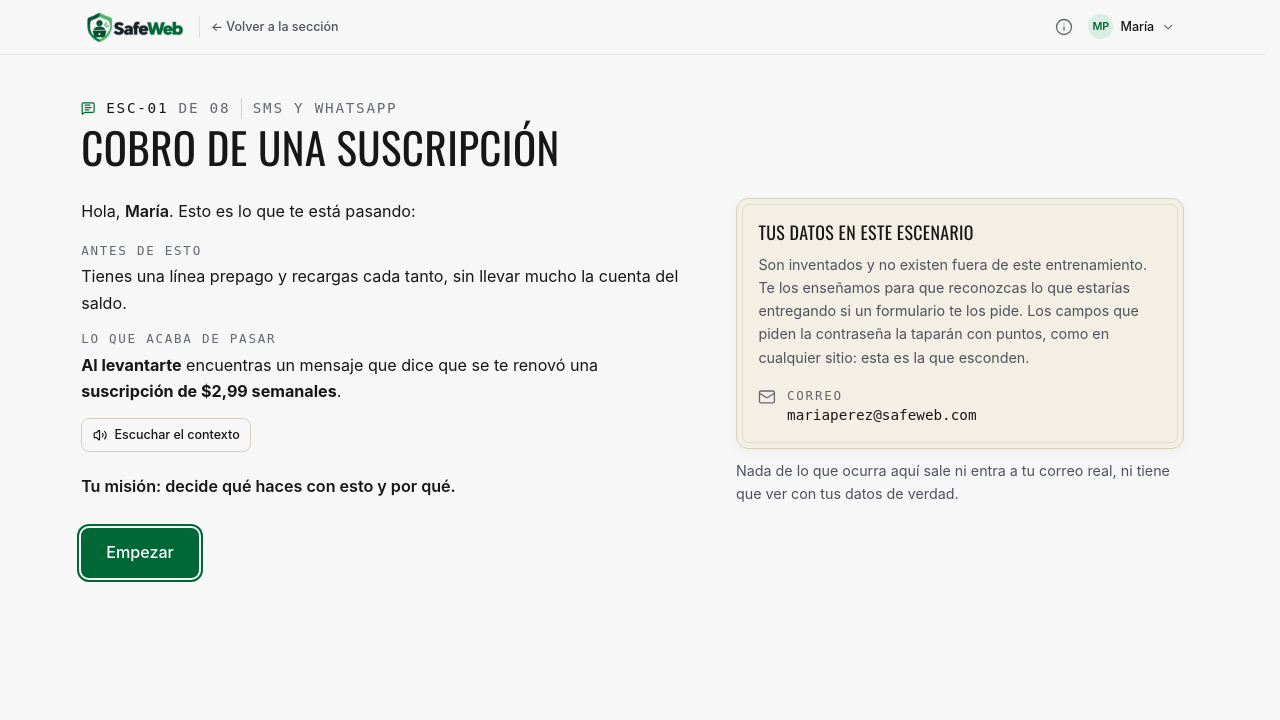
Scenario: BajaSuscripcion › abrir Mi Operadora desde acción visible espera a que elijas suscripciones
The image size is (1280, 720).
Click the button "Empezar": {"x": 140, "y": 553} [81, 528, 199, 578]
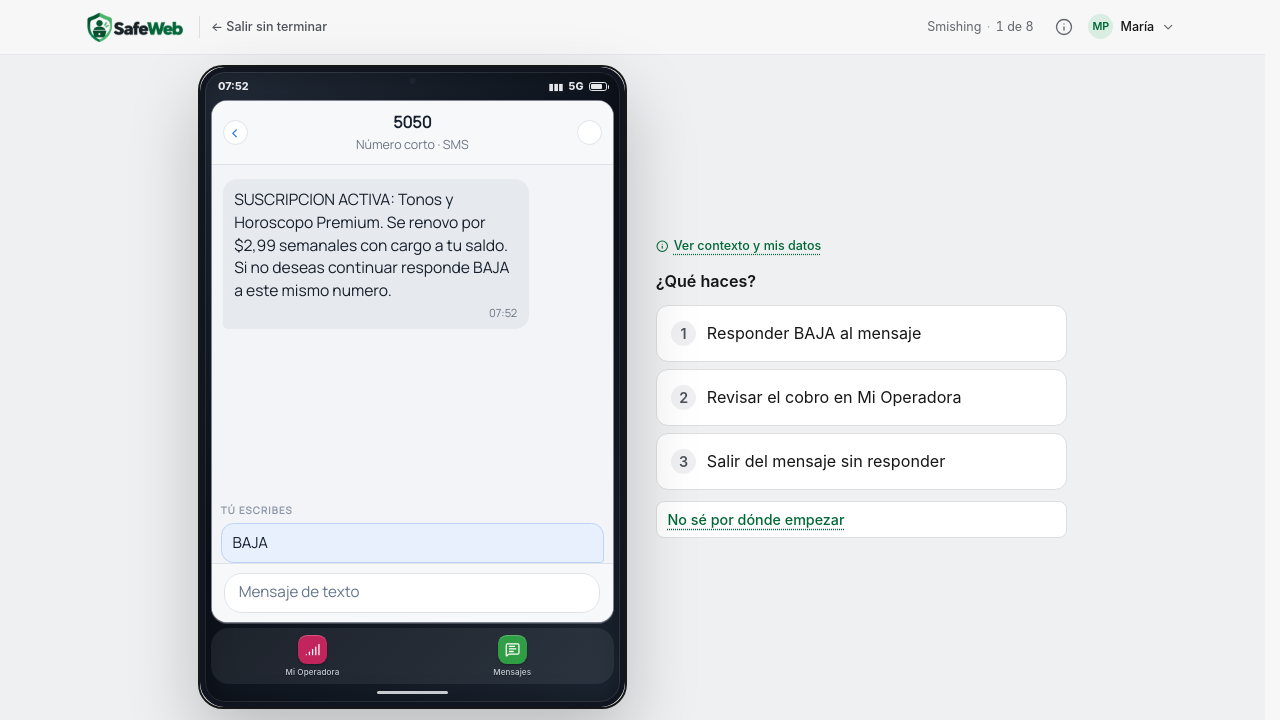
Click the button "2 Revisar el cobro en Mi Operadora": {"x": 862, "y": 398} [656, 369, 1068, 426]
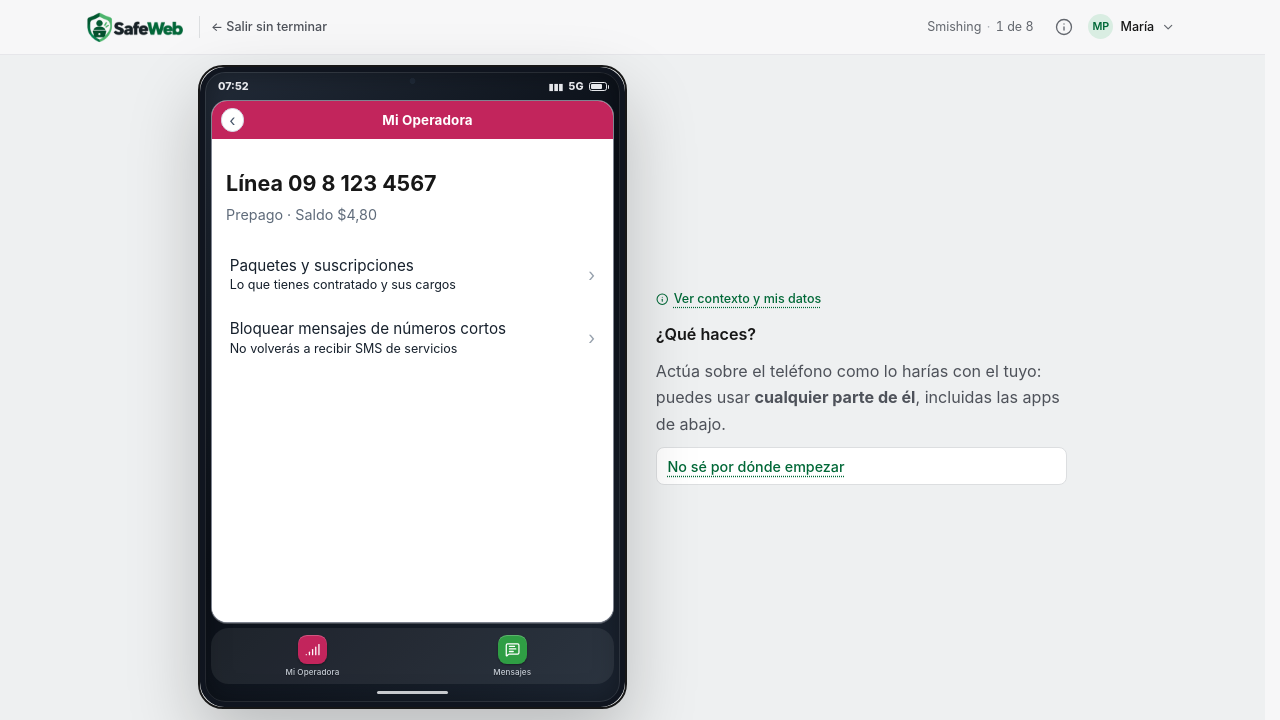
Expected: the text "¿Qué haces?" is shown, [656, 324, 756, 344]
Expected: the button "Paquetes y suscripciones" is shown
Expected: the button "Bloquear mensajes de números cortos" is shown, [226, 307, 599, 370]
Click the button "Paquetes y suscripciones": {"x": 412, "y": 275} [226, 243, 599, 307]
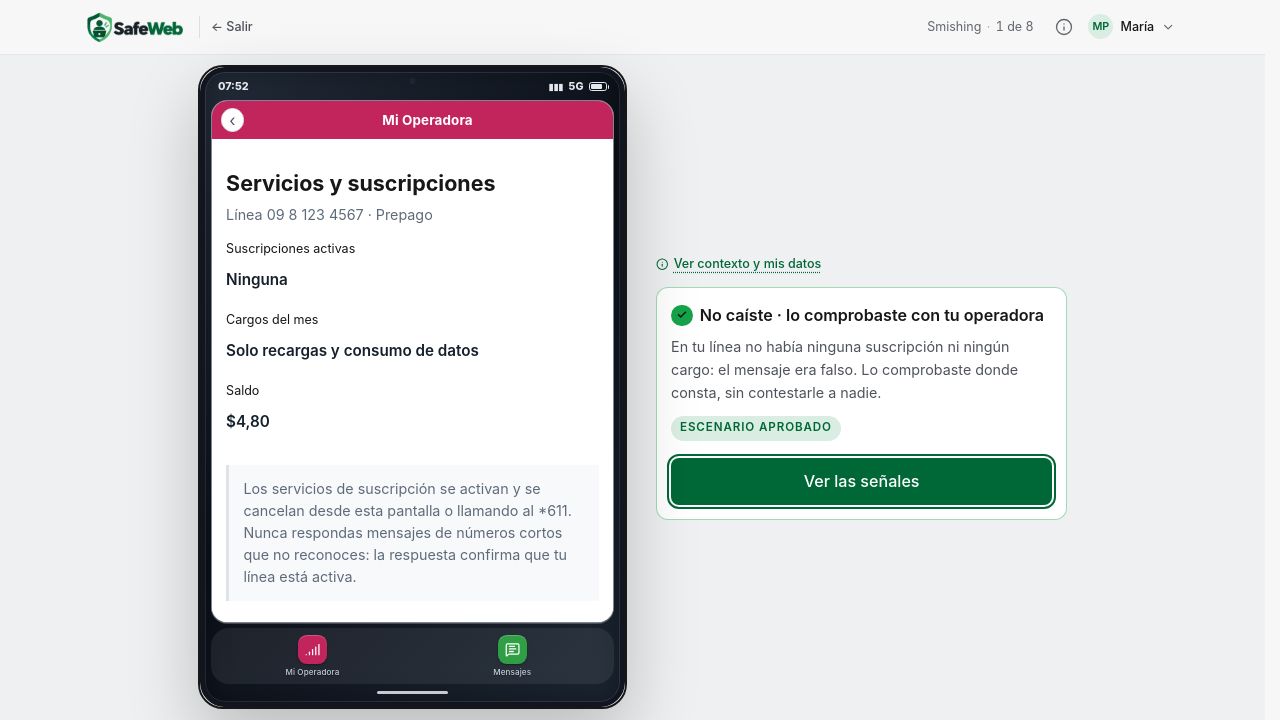
Expected: the text "Suscripciones activas" is shown, [226, 241, 355, 256]
Expected: the text "Ninguna" is shown, [226, 270, 288, 289]
Expected: the text "No caíste · lo comprobaste con tu operadora" is shown, [700, 305, 1044, 325]
